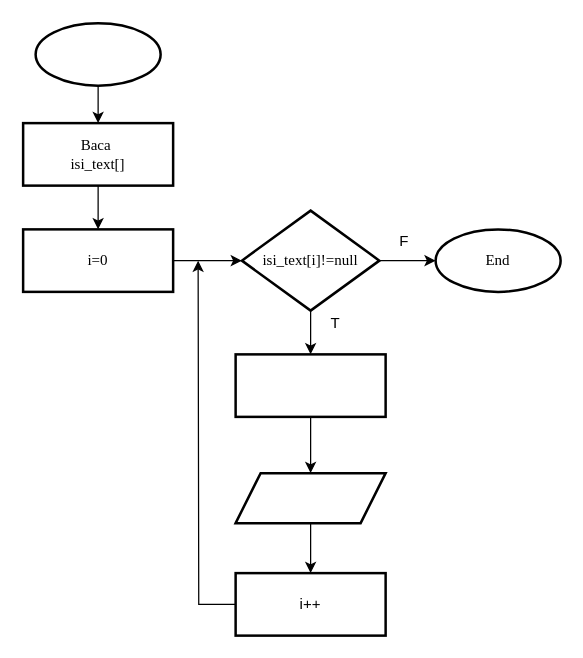
Some shapes in this 583 by 658 pixel diagram are drawn without their labels. The shapes that lost their labels are listed below. From the top down, each one's centre as x and y in pixels, then its label:
(x=97, y=53): Start
(x=310, y=385): hasil= str_replace( ' ' , ", text)
(x=310, y=497): Output text[i]
